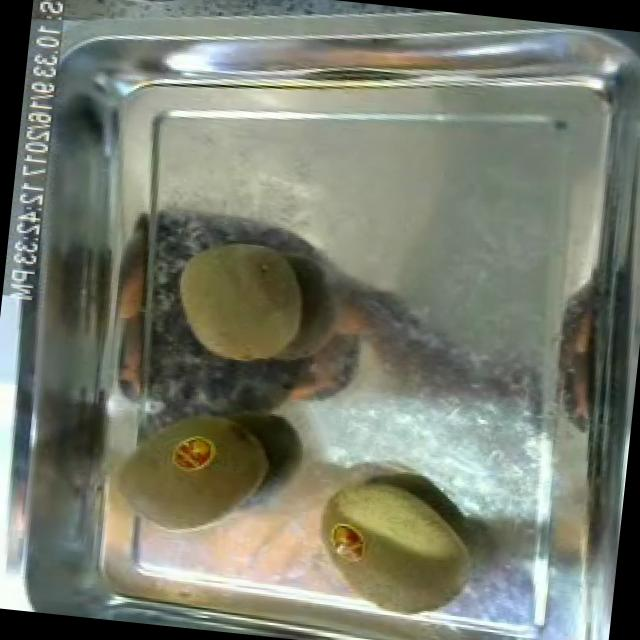Fruit: (201, 442, 491, 640), (98, 398, 287, 554), (150, 220, 322, 382)
